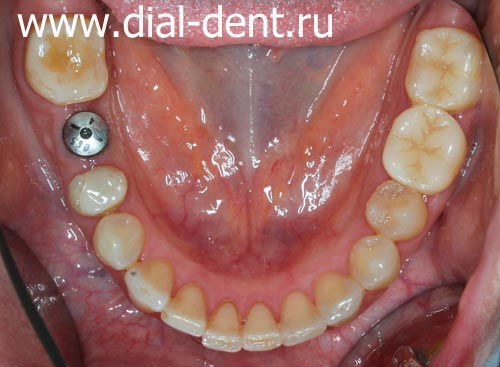LL1BC_healthy: (355, 236, 398, 288)
LL1M_healthy: (390, 116, 464, 184)
LL2BC_healthy: (366, 184, 426, 236)
LL2M_healthy: (412, 33, 480, 107)
LLCI_healthy: (242, 304, 280, 352)
LLC_healthy: (314, 274, 362, 316)
LLLI_healthy: (280, 295, 325, 346)
LR1BC_healthy: (94, 216, 147, 266)
LR2BC_healthy: (69, 167, 126, 212)
LR2M_decay: (27, 39, 110, 97)
LRCI_healthy: (209, 301, 242, 351)
LRC_decay: (126, 263, 172, 308)
LRLI_healthy: (171, 284, 206, 336)
